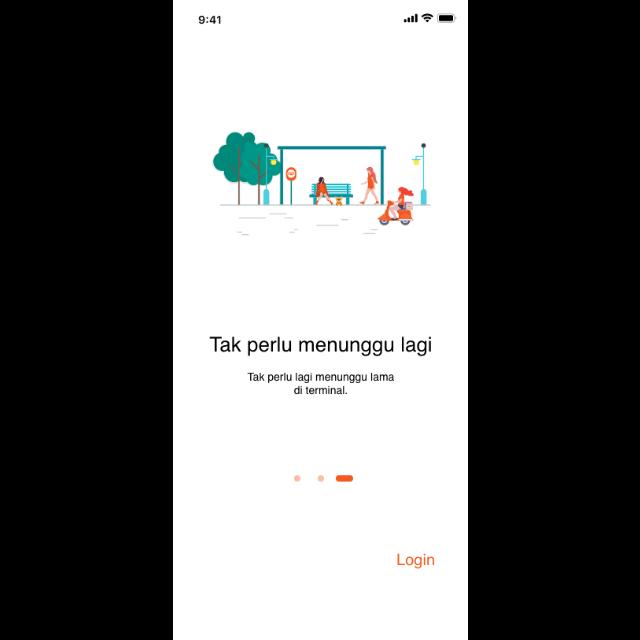image: (213, 132, 432, 236)
pageindicator: (294, 474, 352, 482)
text: (208, 337, 432, 357), (248, 373, 394, 395), (396, 553, 434, 569)
uppertaskbar: (198, 13, 456, 24)
